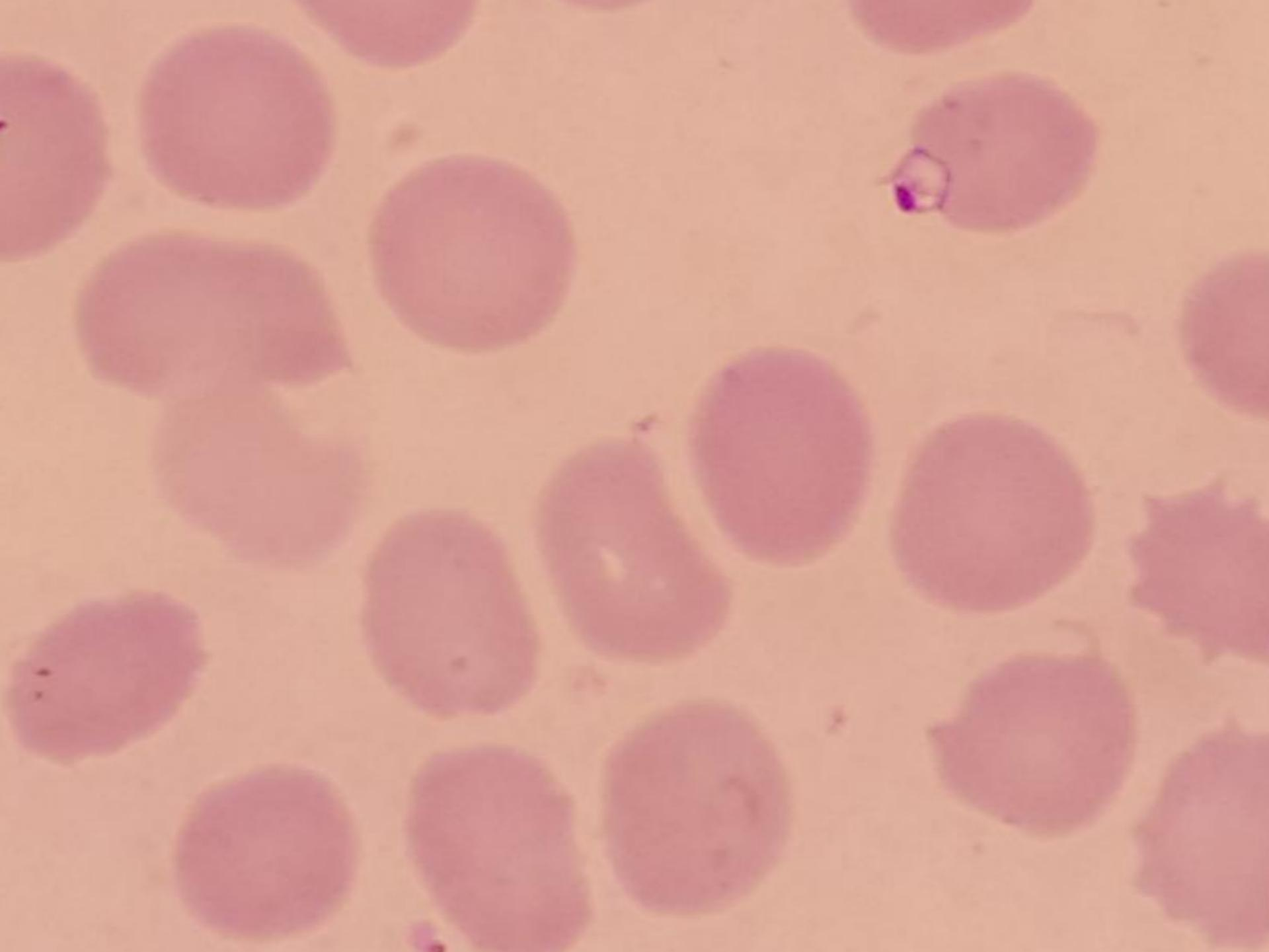Infected: (890, 71, 1100, 251)
Uninfected: (73, 228, 342, 408), (533, 435, 737, 663), (923, 639, 1128, 849), (685, 342, 871, 566), (890, 410, 1097, 611), (599, 694, 784, 911), (401, 732, 582, 952), (145, 375, 360, 557), (137, 21, 329, 215), (370, 159, 567, 348), (361, 514, 546, 715), (170, 756, 364, 946), (0, 593, 200, 767), (1119, 723, 1269, 952), (1119, 483, 1269, 661), (0, 54, 110, 254)
